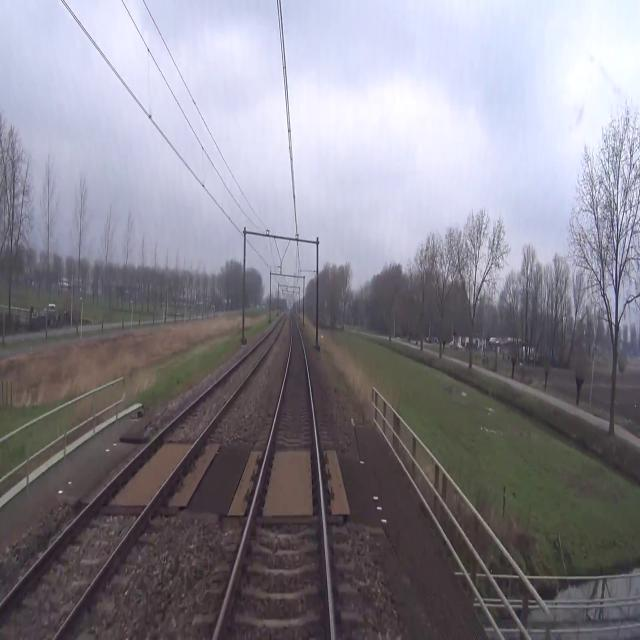rail-track: (0, 315, 284, 639), (217, 317, 330, 639)
